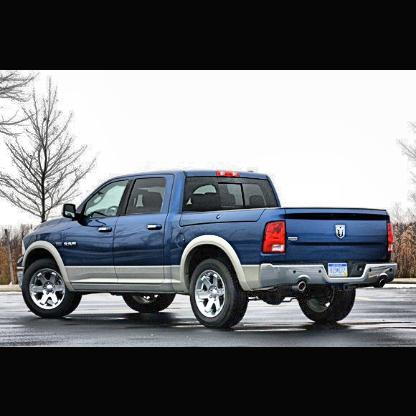Dodge Ram Pickup 3500 Quad Cab 2009: (15, 167, 400, 333)
